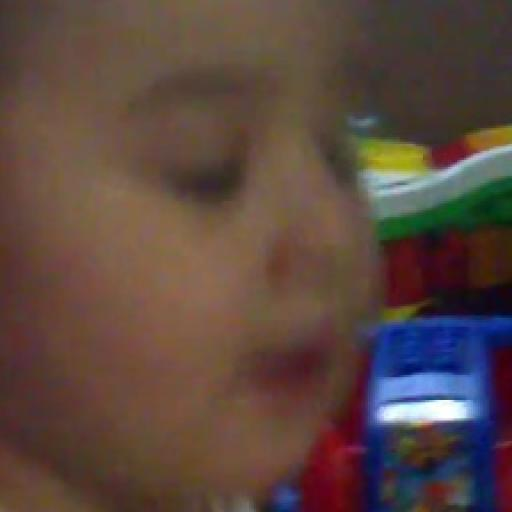Autism: (27, 16, 421, 512)
